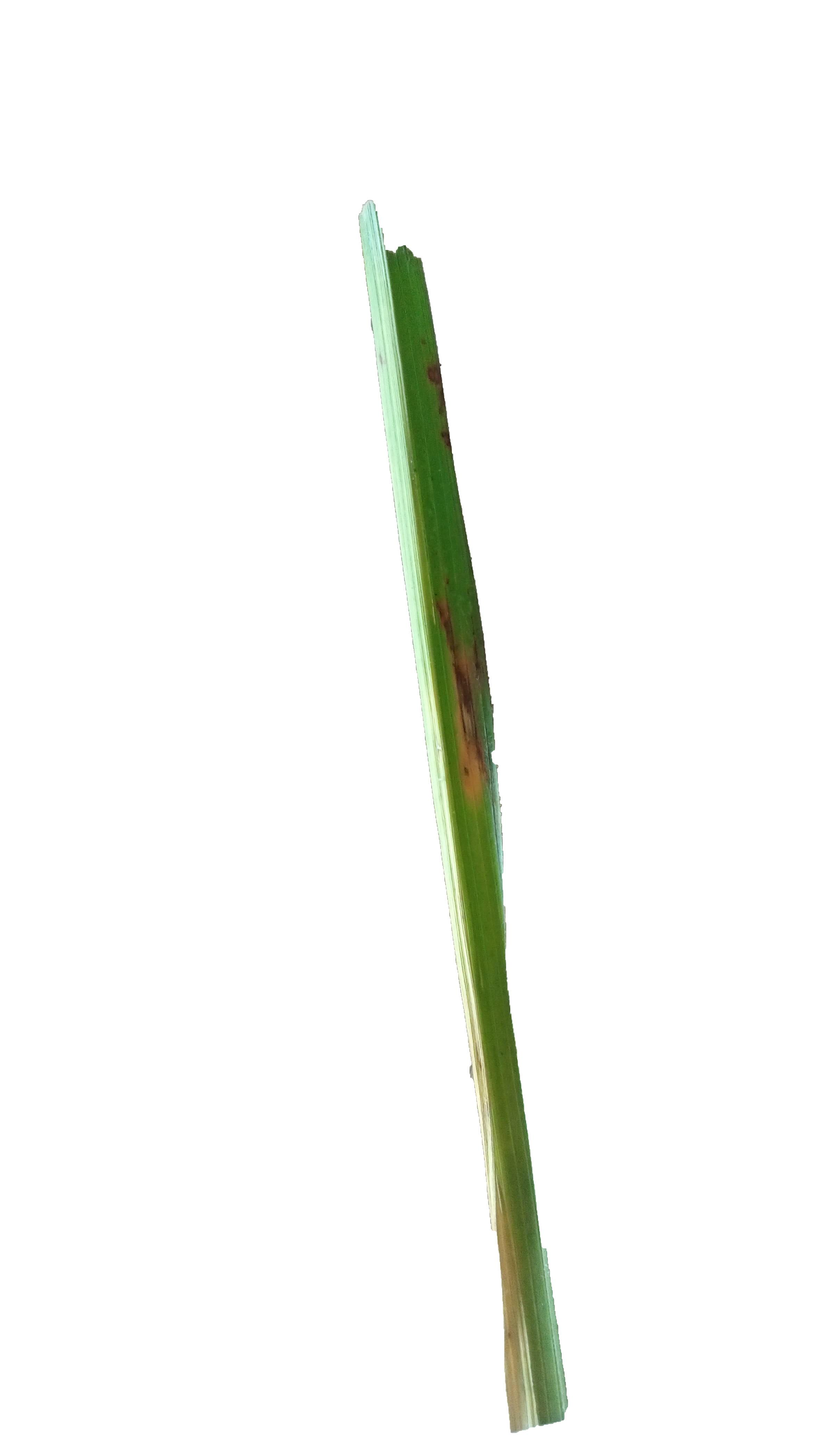Rice blast: (431, 583, 487, 784), (425, 335, 456, 466)
